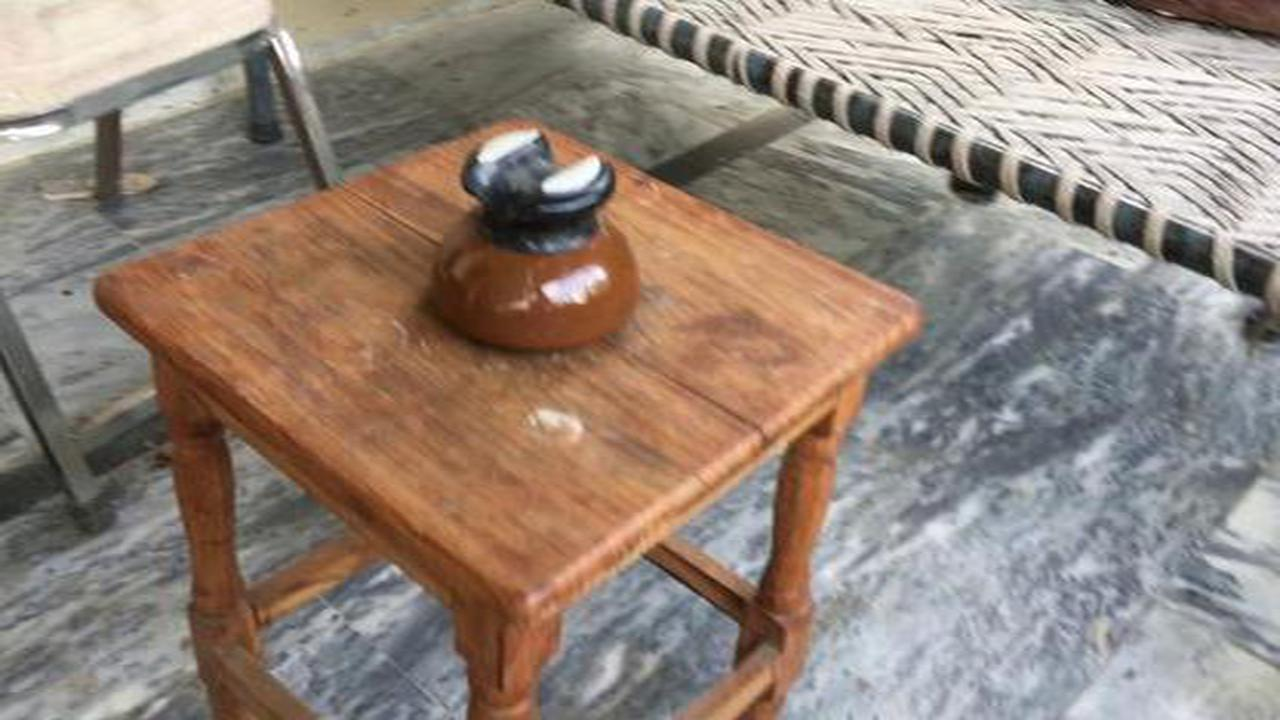insulator_pin: (407, 116, 662, 366)
